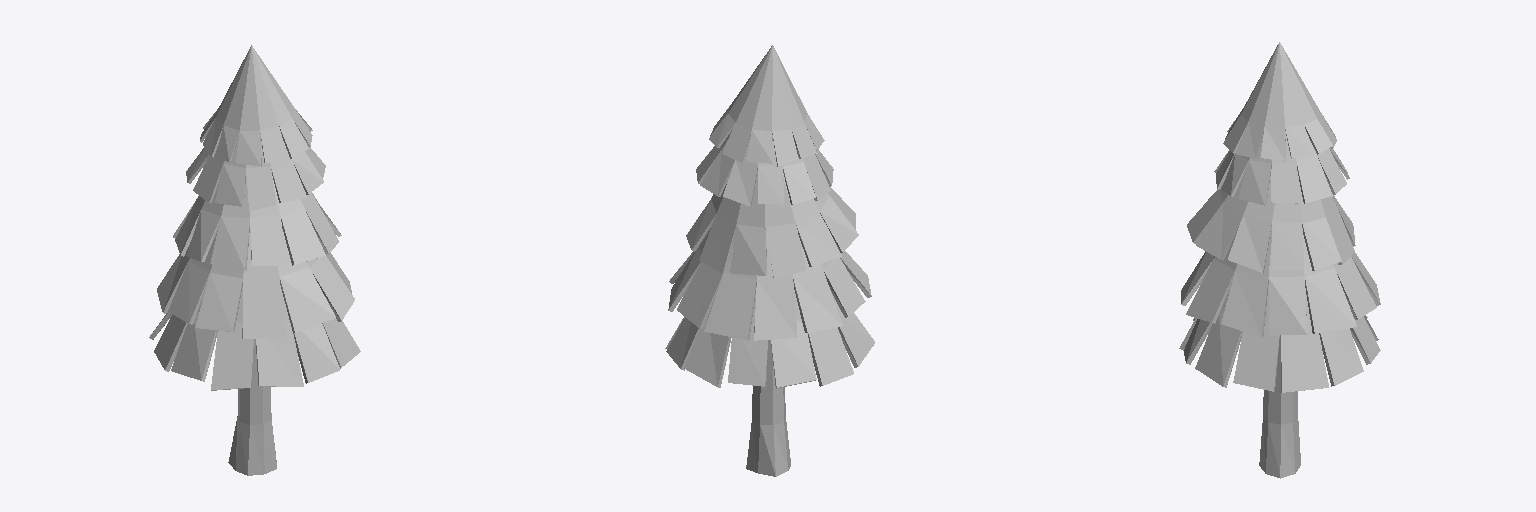
The model's file is mytree4.obj.
The picture shows the model from 3 angles: view 1: azimuth 30°, elevation 25°; view 2: azimuth 150°, elevation 25°; view 3: azimuth 270°, elevation 25°; orthographic projection.
Parts seen in each view (by area): view 1: Tree3_2.001_Cylinder.025; view 2: Tree3_2.001_Cylinder.025; view 3: Tree3_2.001_Cylinder.025.
Boxes of the visible parts, box(x1,y1,x2,y2) form: Tree3_2.001_Cylinder.025: box(149, 45, 360, 475); Tree3_2.001_Cylinder.025: box(665, 45, 874, 476); Tree3_2.001_Cylinder.025: box(1179, 42, 1380, 478).
Bounding box in the file's own units: 9.79 × 22.36 × 9.63.